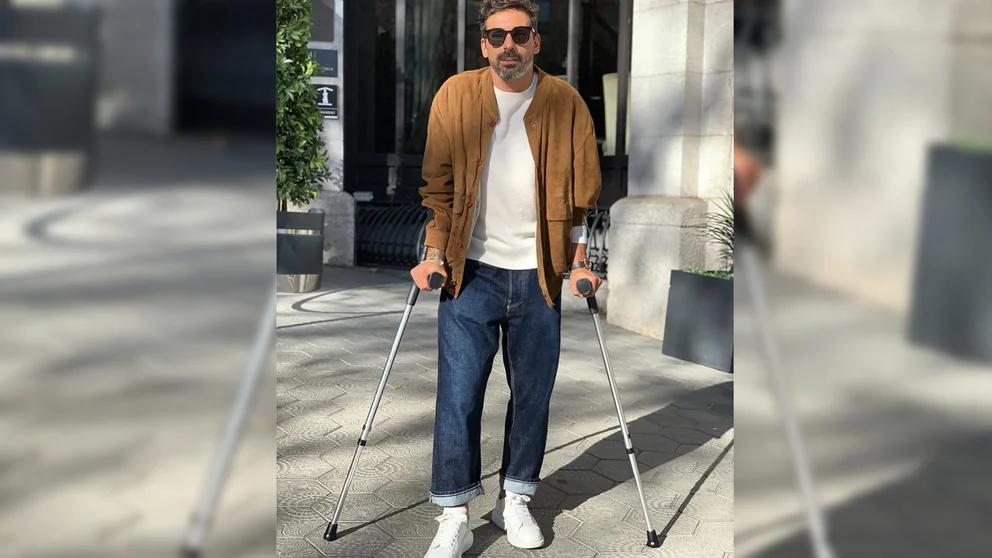crutches: (324, 0, 660, 558)
